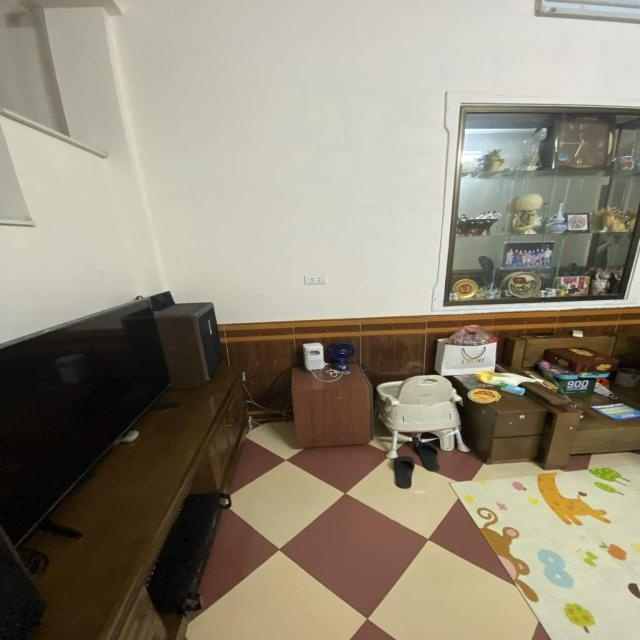outlet: (304, 274, 327, 285)
